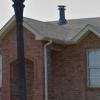Chimney: (55, 0, 68, 30)
